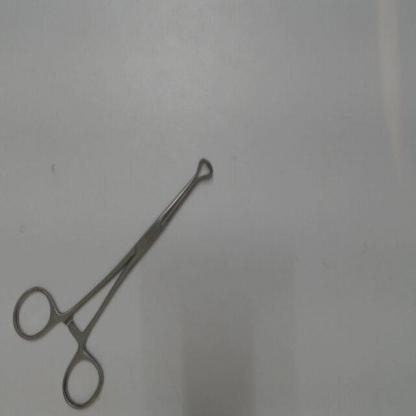Babcock Tissue Forceps: (10, 155, 218, 414)
